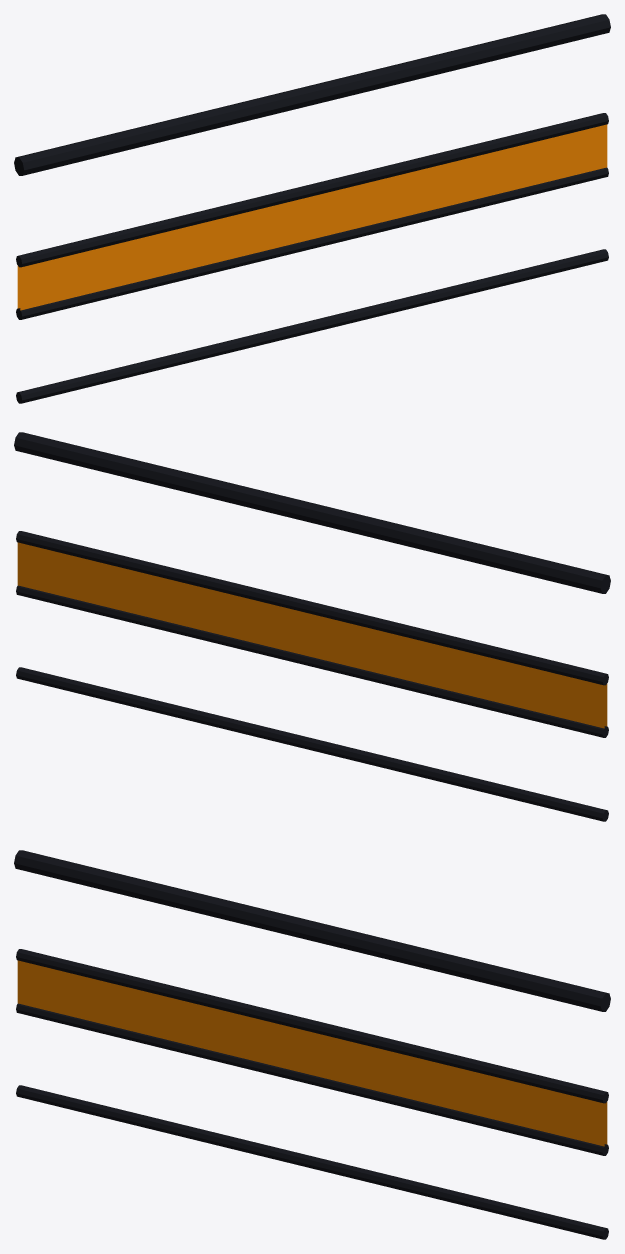
The model's file is test_handrail.fbx.
The picture shows the model from 3 angles, top to bottom: view 1: azimuth 30°, elevation 25°; view 2: azimuth 150°, elevation 25°; view 3: azimuth 330°, elevation 25°; orthographic projection.
Visible parts, largest first — view 1: Cylinder.003; view 2: Cylinder.003; view 3: Cylinder.003.
Boxes of the visible parts, x1,y1,x2,y2 form: Cylinder.003: (14, 14, 610, 403); Cylinder.003: (14, 432, 610, 821); Cylinder.003: (14, 850, 610, 1239).
Size of the model in its own units: 200 by 80.24 by 6.04.
